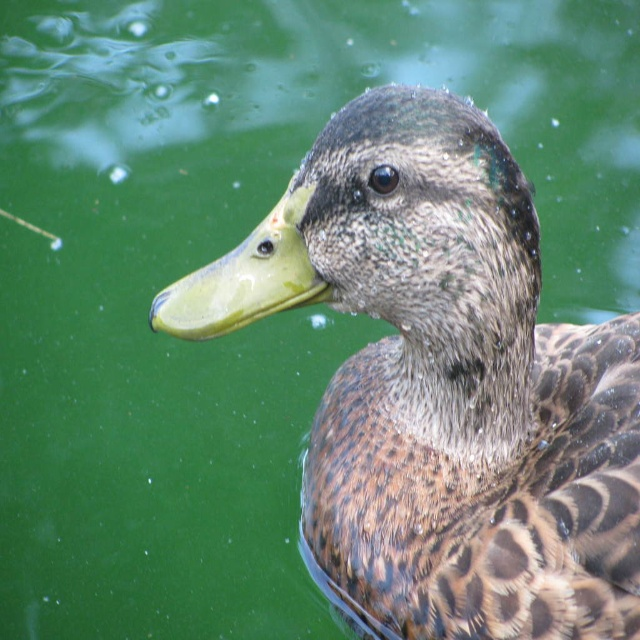Goose: (149, 81, 638, 639)
